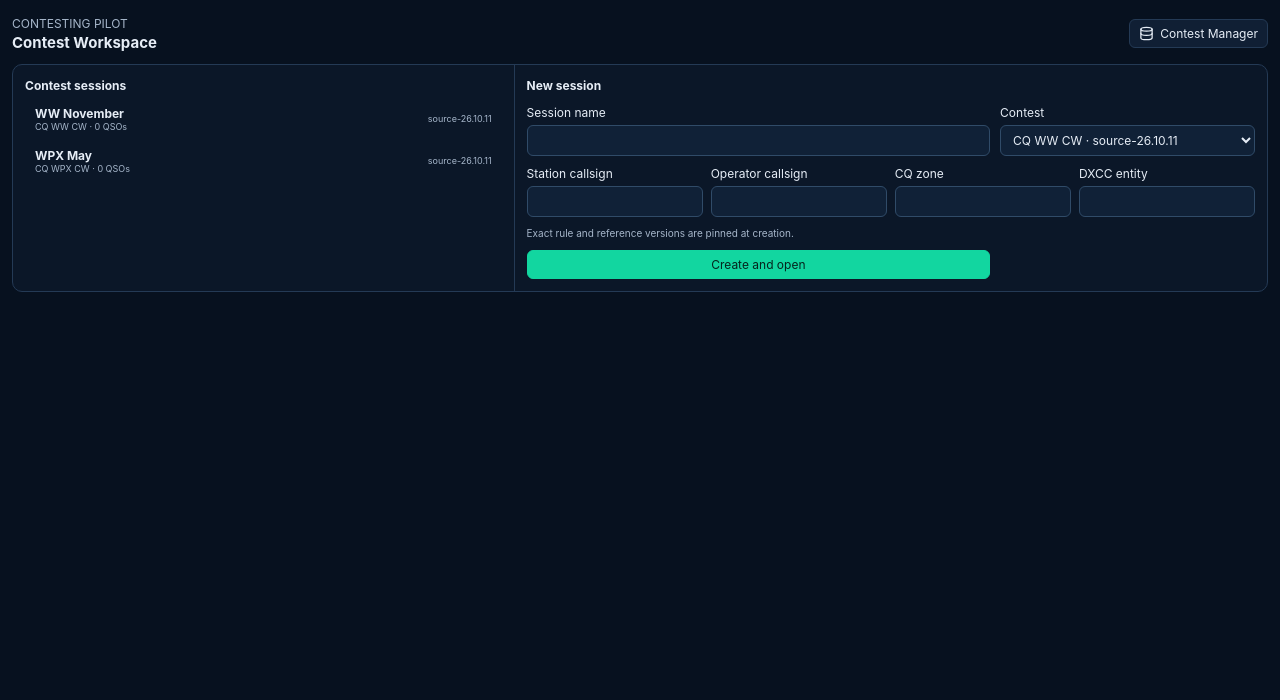
Test: keeps a confirmed commit applied when the following score and log refresh fails
Check: the text "WW November" is shown, box [35,106,127,120]
Click the button "WW November CQ WW CW · 0 QSOs source-26.10.11".
click(79, 113)  # box [25,100,502,137]
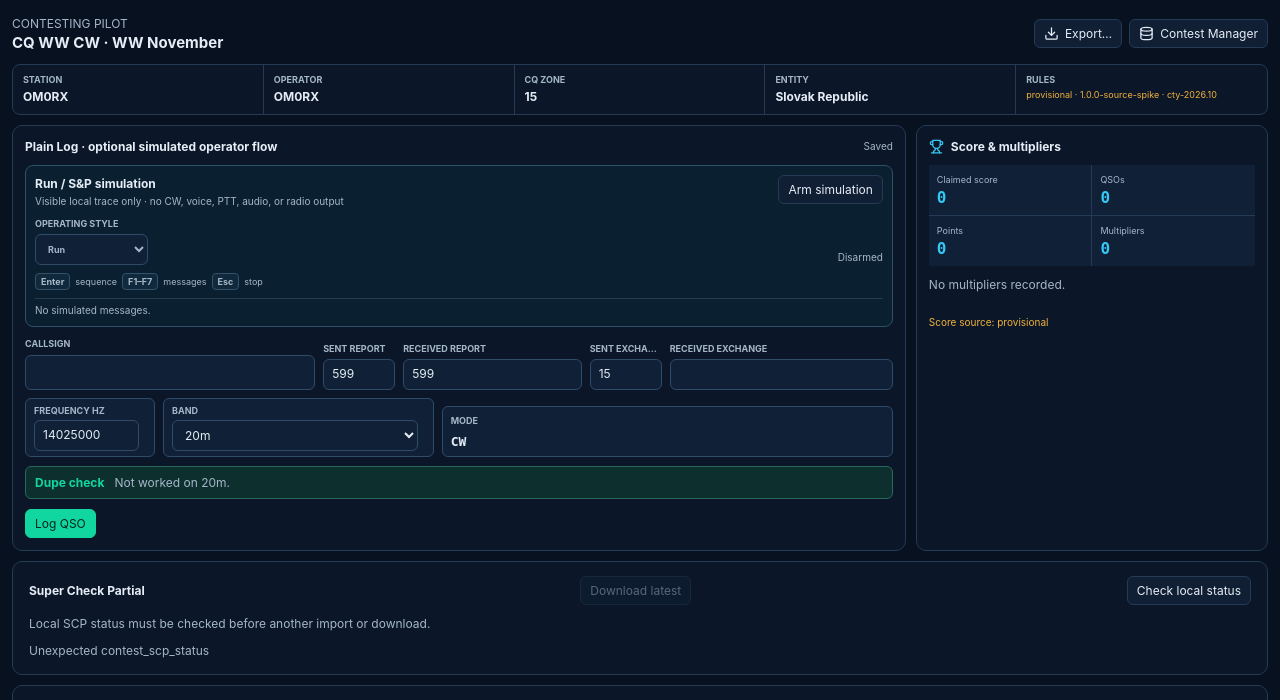
Check: the form named "CW contest entry" is shown, box [12,125,906,551]
Type "K1ABC" into the field named "Contest callsign".
click(170, 372); type("K1ABC")  # box [25,354,315,390]
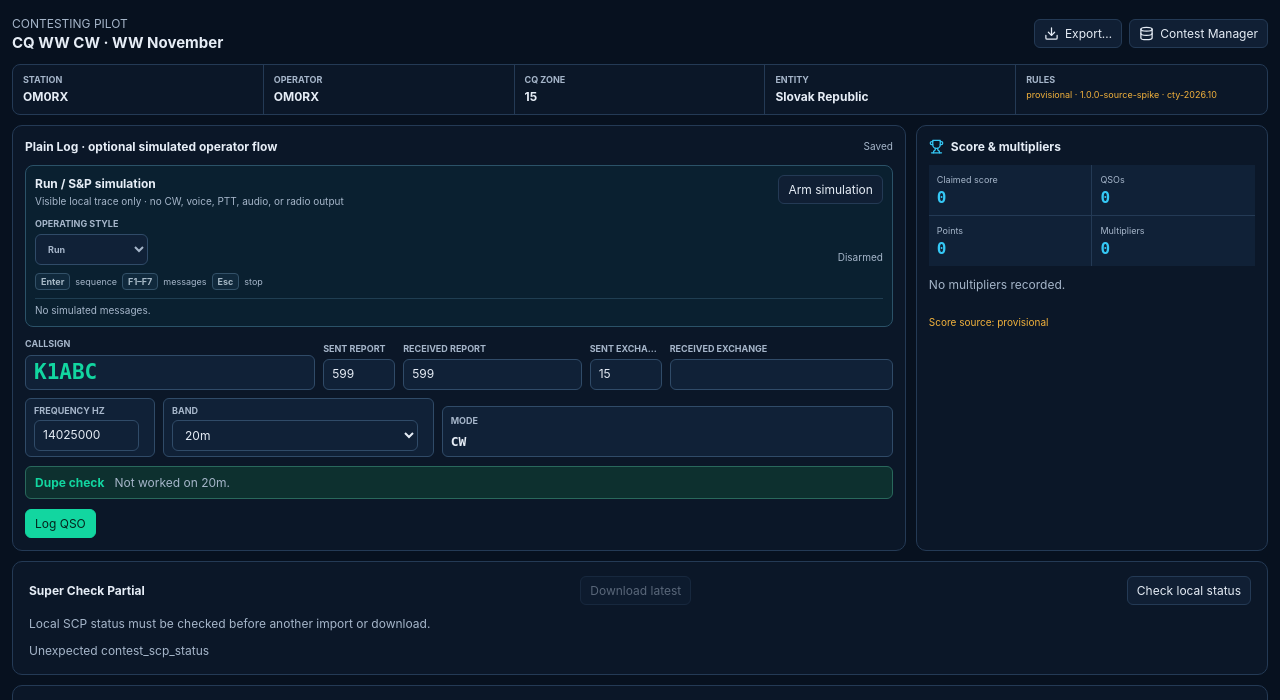
Submit the form named "CW contest entry", box [12,125,906,551]
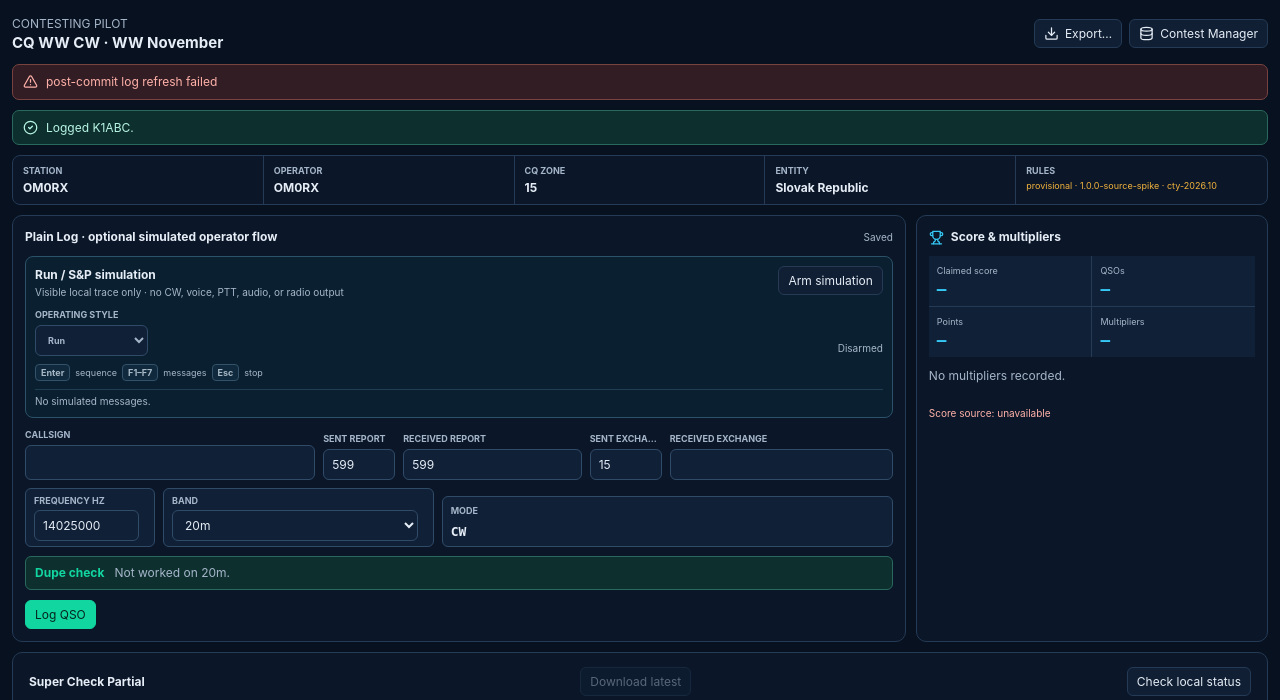
Check: the text "post-commit log refresh failed" is shown, box [12,64,1268,100]
Check: the field named "Contest callsign" is empty, box [25,445,315,480]
